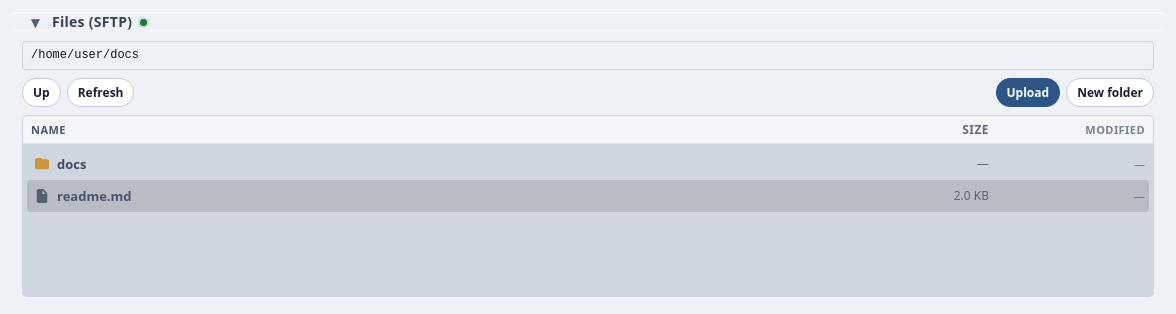
Test case: SftpPanel listing › double-clicking a directory navigates via chdir and reloads the listing
Step 1. Double-click the text "docs" → {"x": 61, "y": 164}, box left=35, top=155, right=86, bottom=173
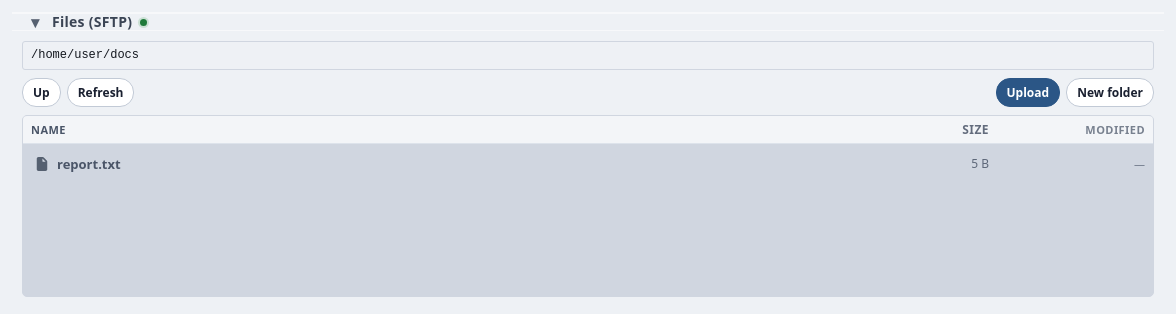
Check: the field named "Directory" holds "/home/user/docs", box left=22, top=41, right=1154, bottom=70
Check: the text "report.txt" is shown, box left=35, top=155, right=121, bottom=173
